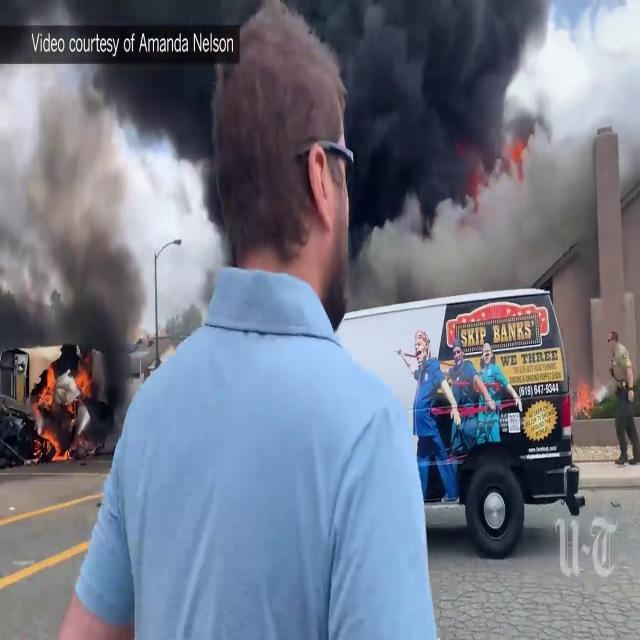Fire: (31, 361, 88, 462)
Smoke: (326, 1, 640, 316), (1, 46, 208, 338)
